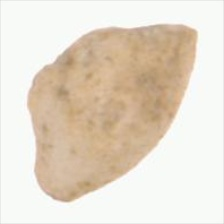L2: (24, 23, 199, 202)
